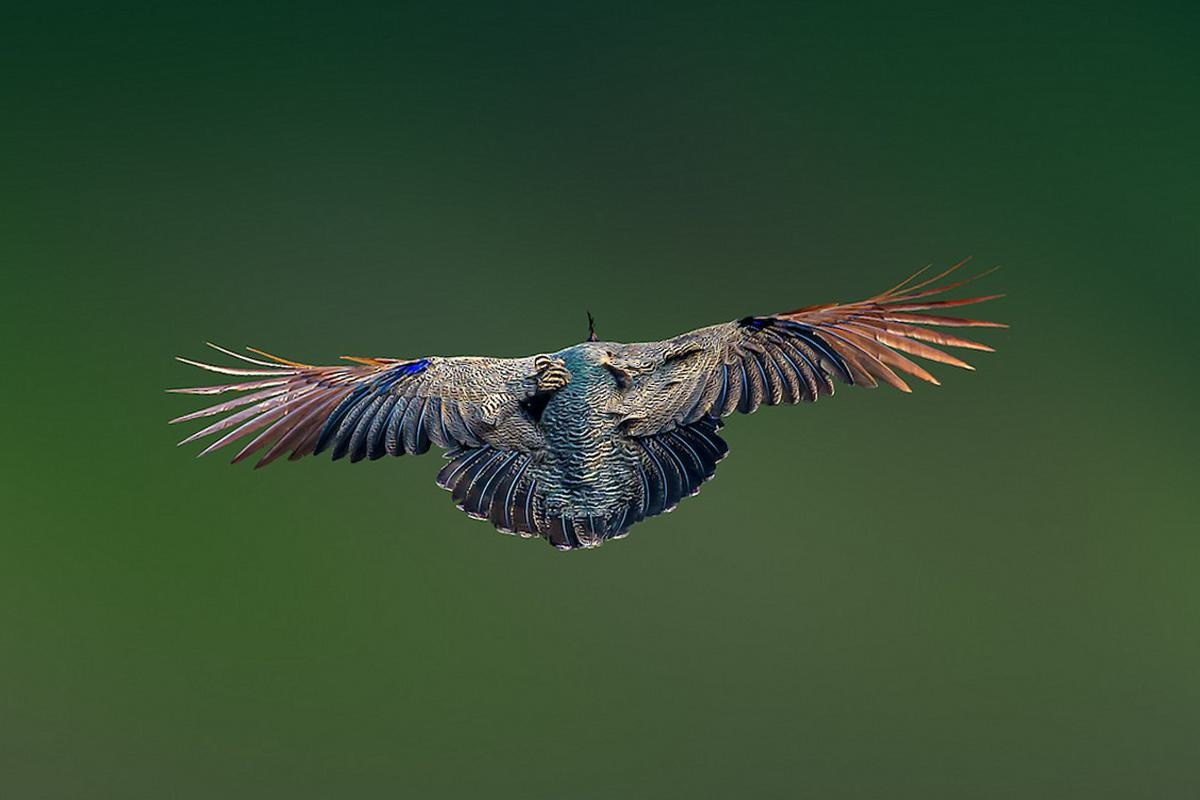peacock: (176, 253, 995, 544)
